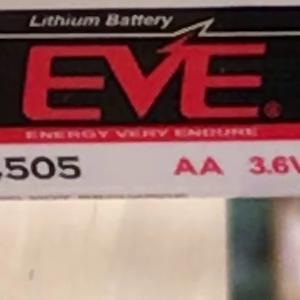keyword: (20, 8, 108, 36)
